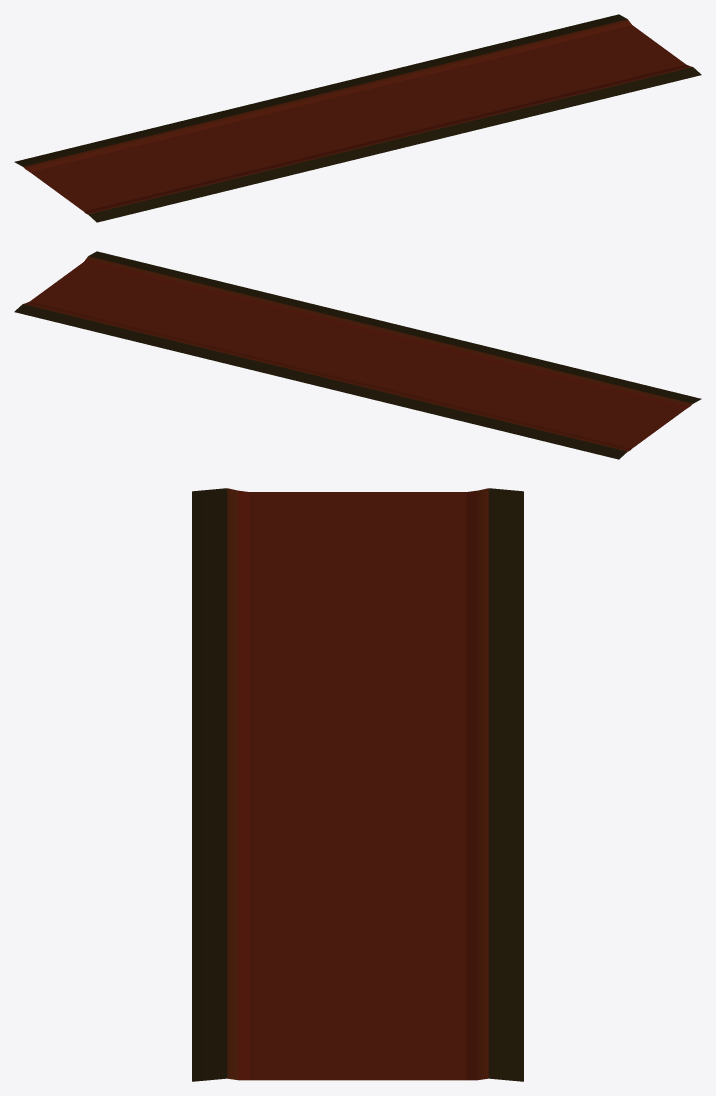
File: River_bank.fbx
3 renders of one model, top to bottom at view 1: azimuth 30°, elevation 25°; view 2: azimuth 150°, elevation 25°; view 3: azimuth 270°, elevation 25°, orthographic. The views are drawn at different scales.
Parts seen in each view (by area): view 1: River_bank; view 2: River_bank; view 3: River_bank.
Part boxes in pixels (box(x1,y1,x2,y2)): River_bank: box(14, 14, 701, 222); River_bank: box(14, 251, 701, 459); River_bank: box(192, 488, 523, 1081).
Bounding box in the file's own units: 935 × 2.33 × 222.
